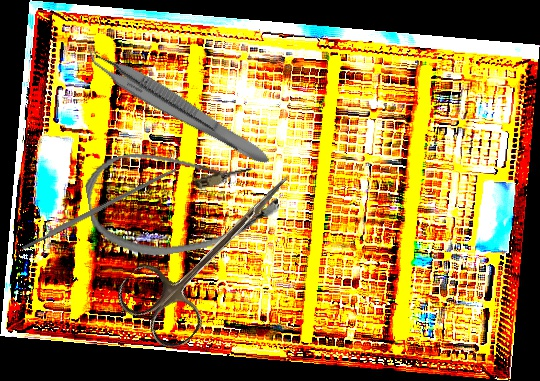Cannula: (81, 130, 284, 267)
Iris Scissors: (109, 143, 317, 357)
Scalpel Handle: (20, 166, 178, 251)
Tissue Forceps: (75, 39, 279, 169)
